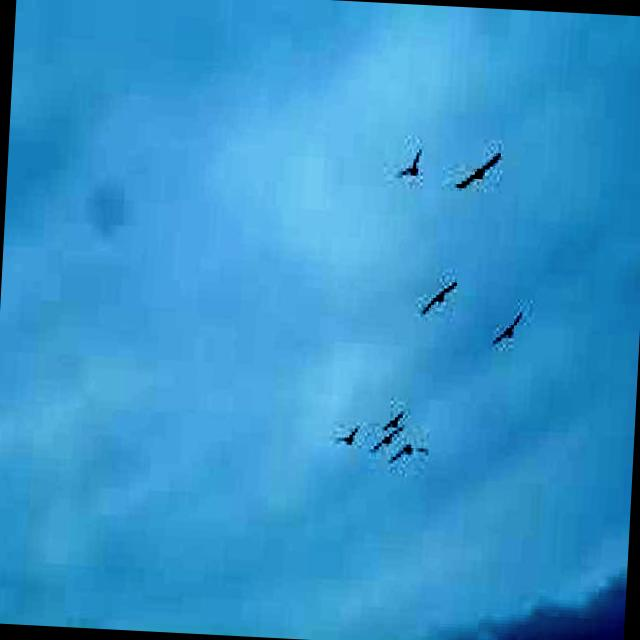bird: (449, 145, 512, 205), (490, 300, 533, 358), (415, 274, 466, 322), (384, 147, 436, 190), (389, 438, 431, 470), (372, 423, 406, 460), (372, 404, 413, 432), (334, 417, 363, 452)
